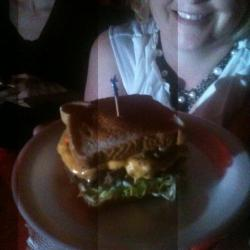burger: (56, 89, 194, 214)
